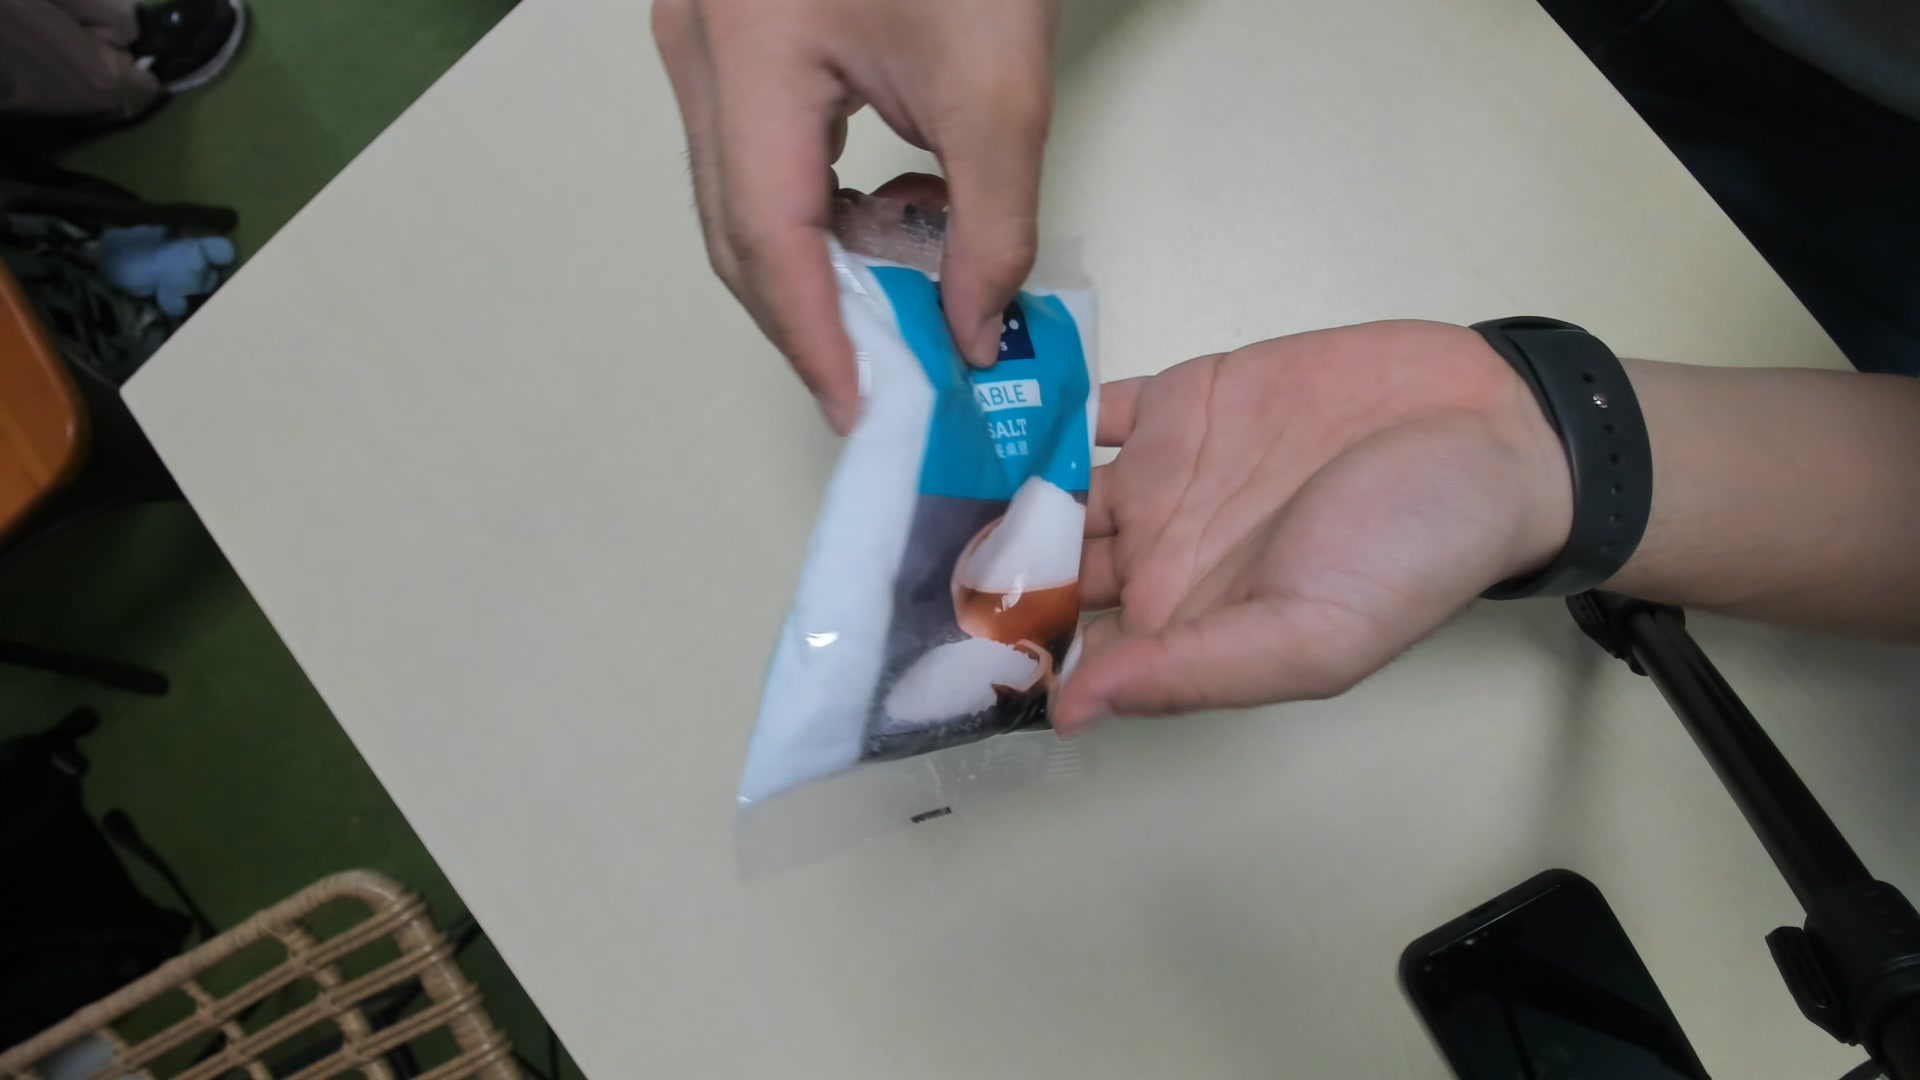Salt_400-499g_NonHalal_NonHealthy: (744, 202, 1098, 808)
